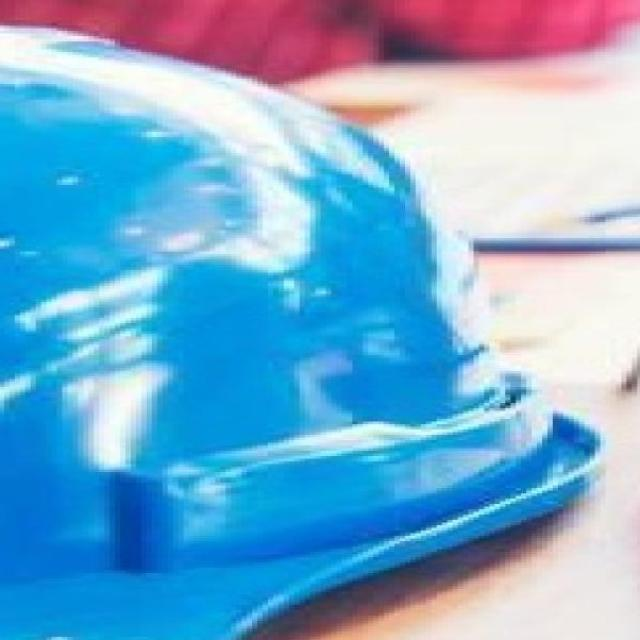helmet: (0, 22, 606, 640)
